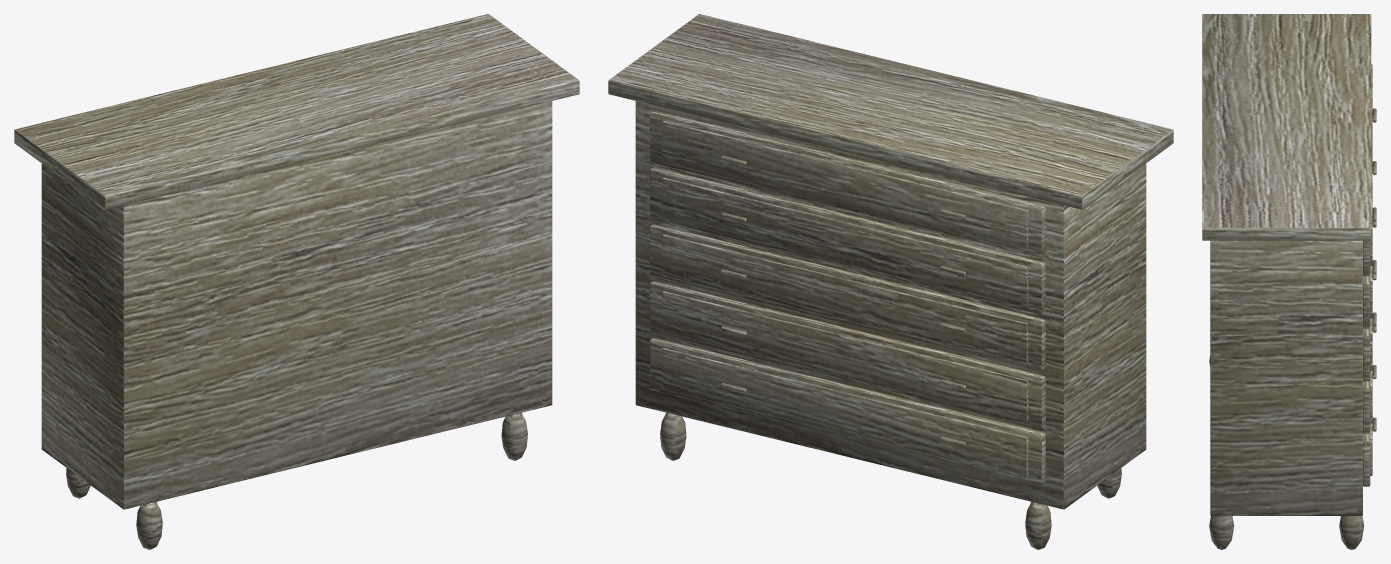
The model's file is Antique_Chest_12.fbx.
3 views of the same model, side by side, from view 1: azimuth 30°, elevation 25°; view 2: azimuth 150°, elevation 25°; view 3: azimuth 270°, elevation 25° (orthographic). The views are drawn at different scales.
Parts seen in each view (by area): view 1: Antique_Chest; view 2: Antique_Chest; view 3: Antique_Chest.
Boxes of the visible parts, box(x1,y1,x2,y2) form: Antique_Chest: box(14, 14, 579, 549); Antique_Chest: box(608, 14, 1173, 549); Antique_Chest: box(1202, 14, 1376, 549).
Size of the model in its own units: 1.75 by 1.32 by 0.6017.
Materials: 1 (1 with a texture image).
